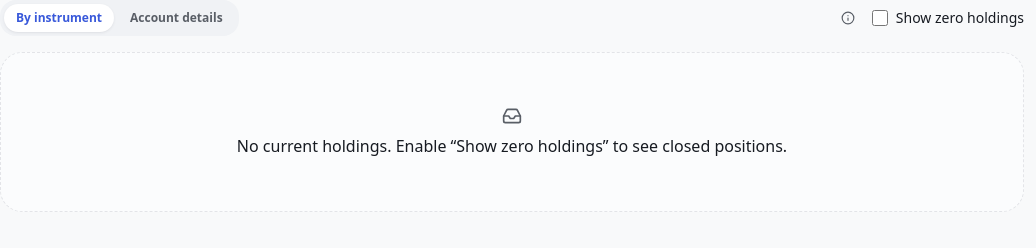
Scenario: HoldingGroupsList › keeps an all-zero group accessible through the filter and labels archived metal units
Click the checkbox at (880, 18), box [872,10,888,26]
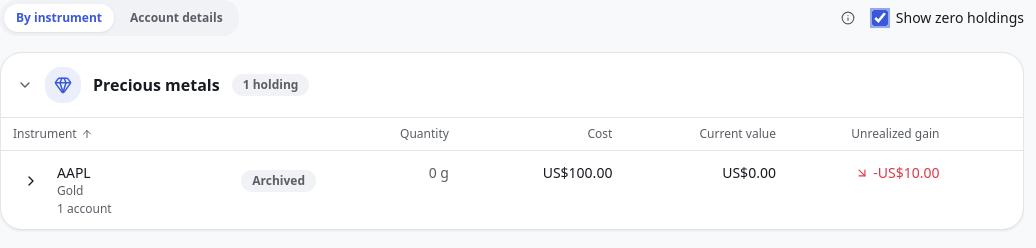
Expected: the text "Archived" is shown, [241,170,316,192]
Expected: the table with test id "holdings-table" shows "0 g", [429,163,449,182]
